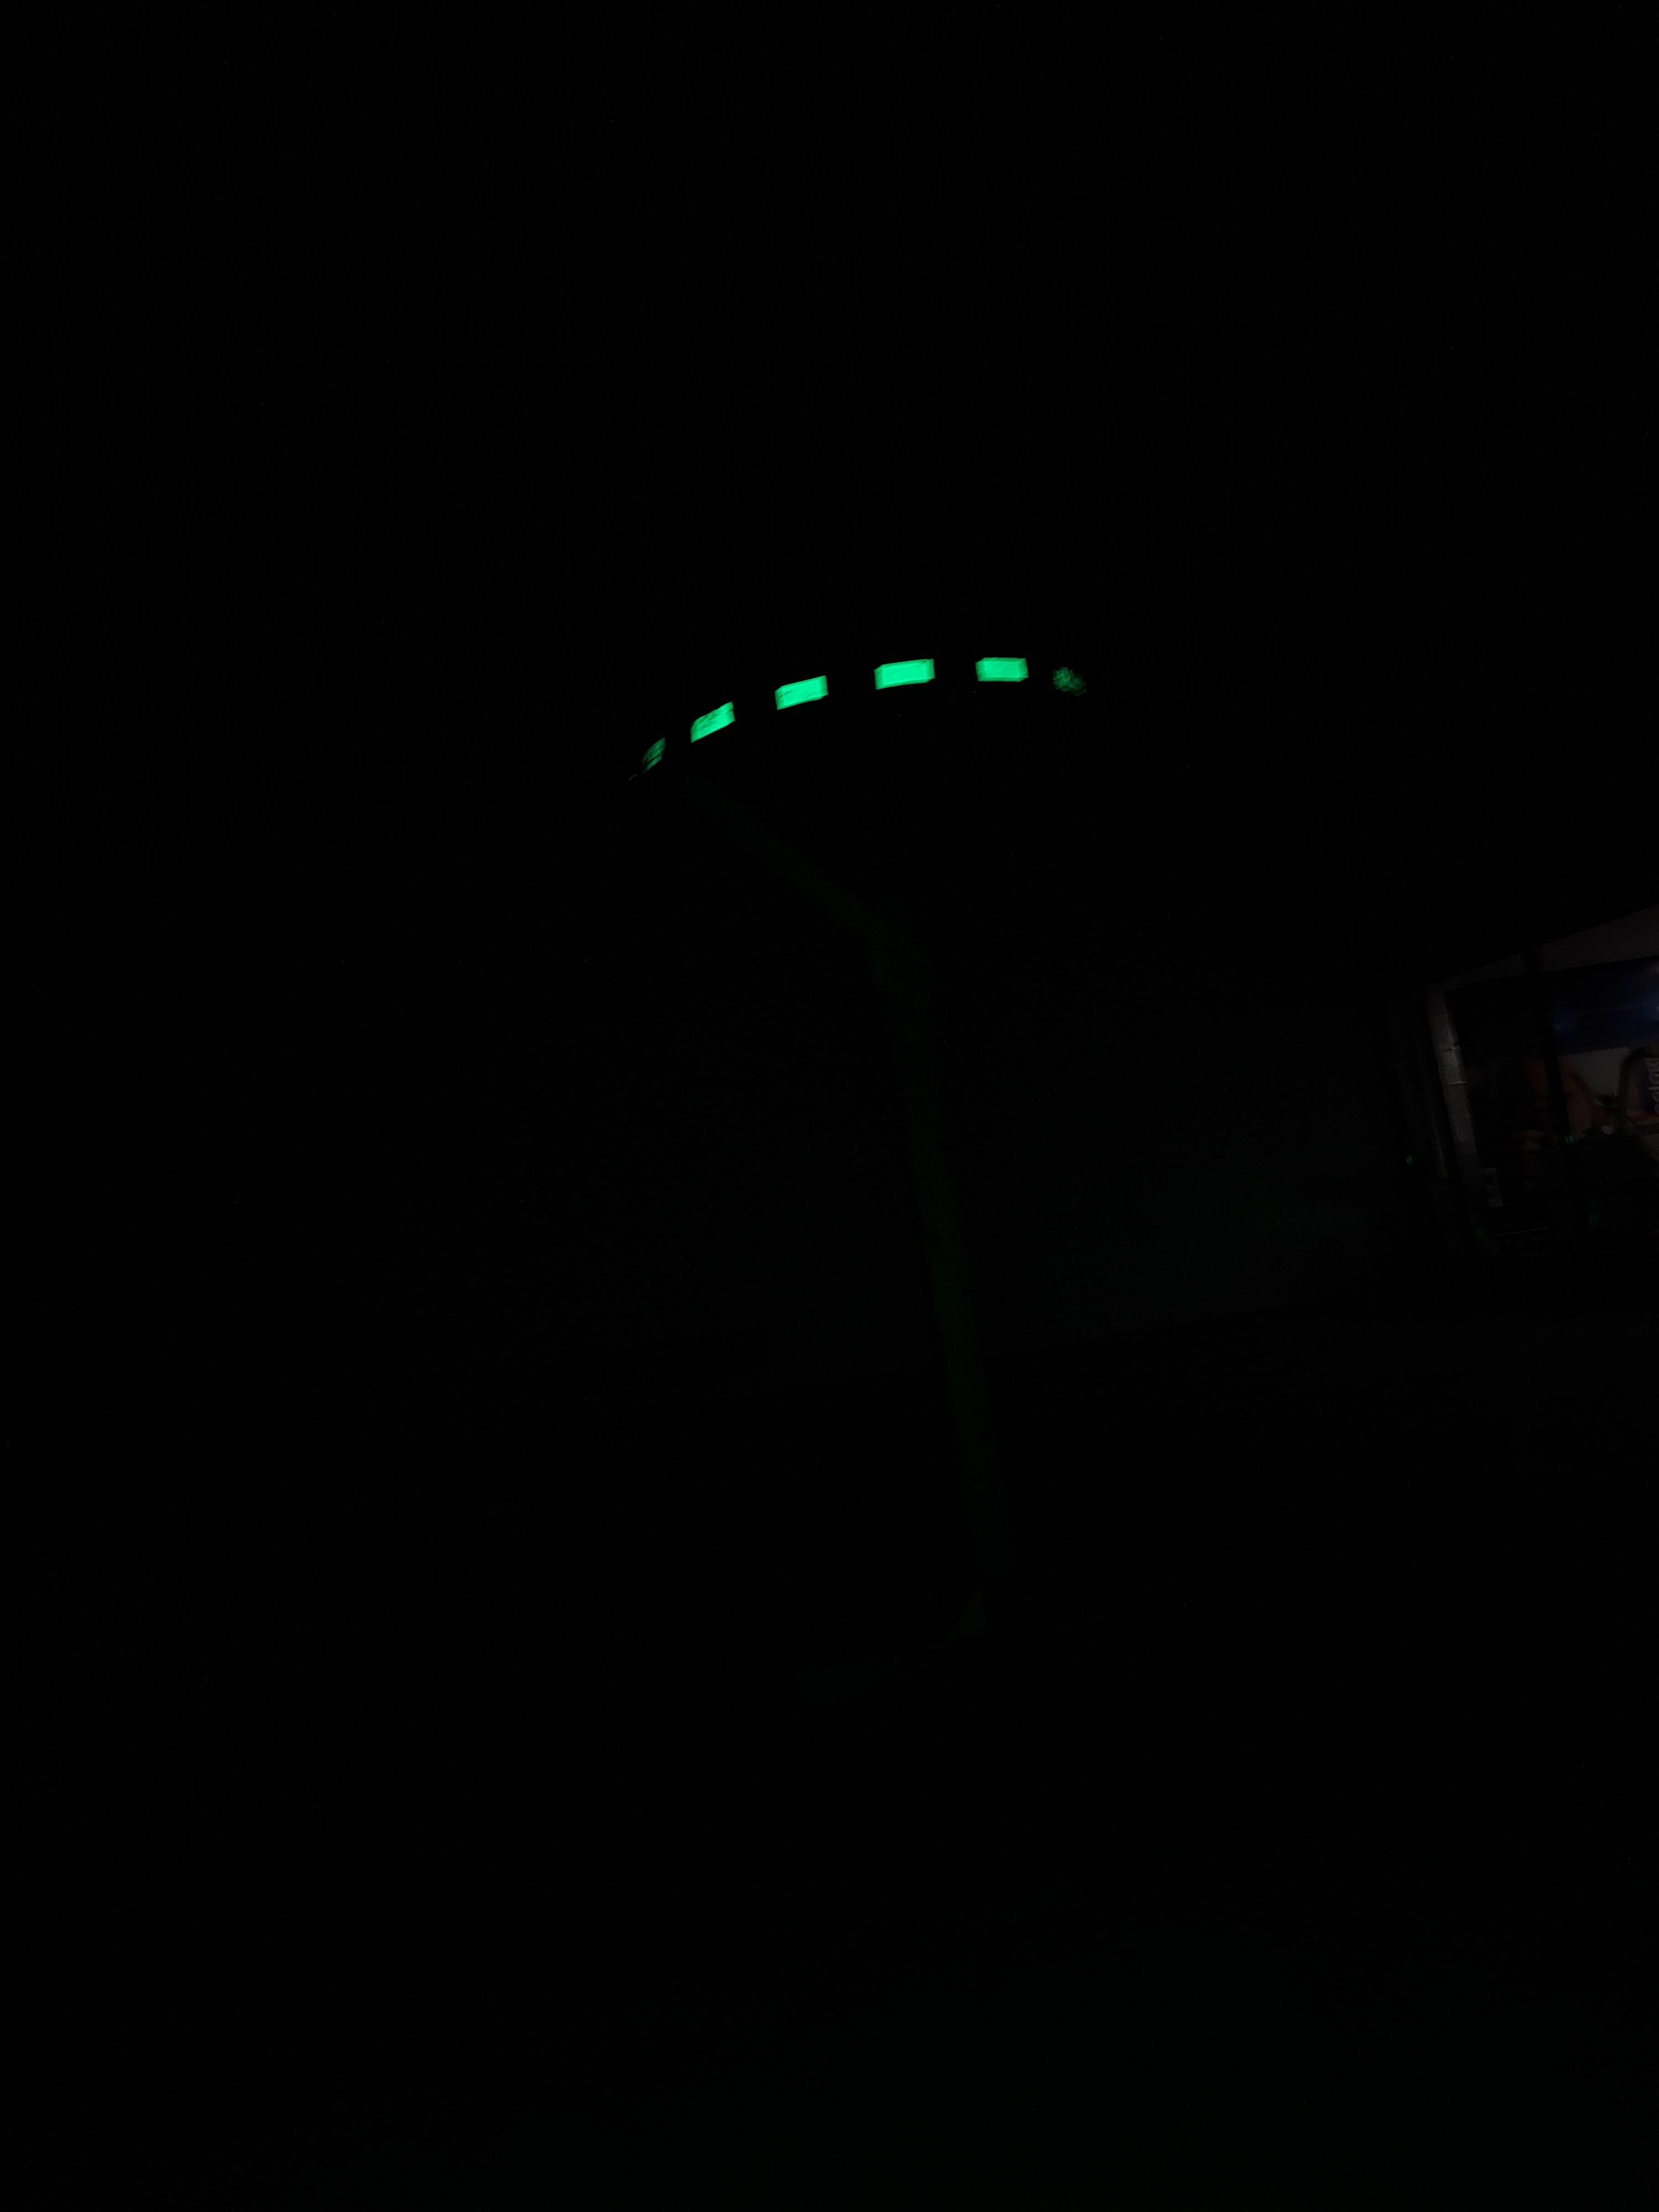hoop: (622, 620, 1115, 801)
